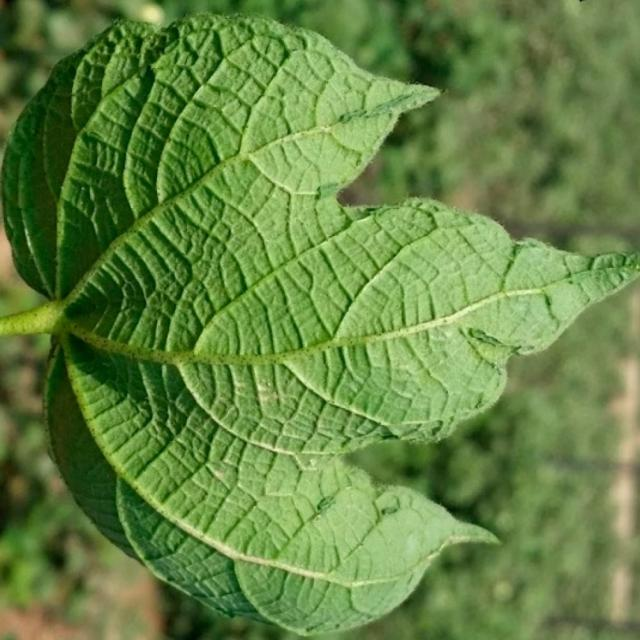Leaf Curl Virus: (37, 41, 473, 604)
